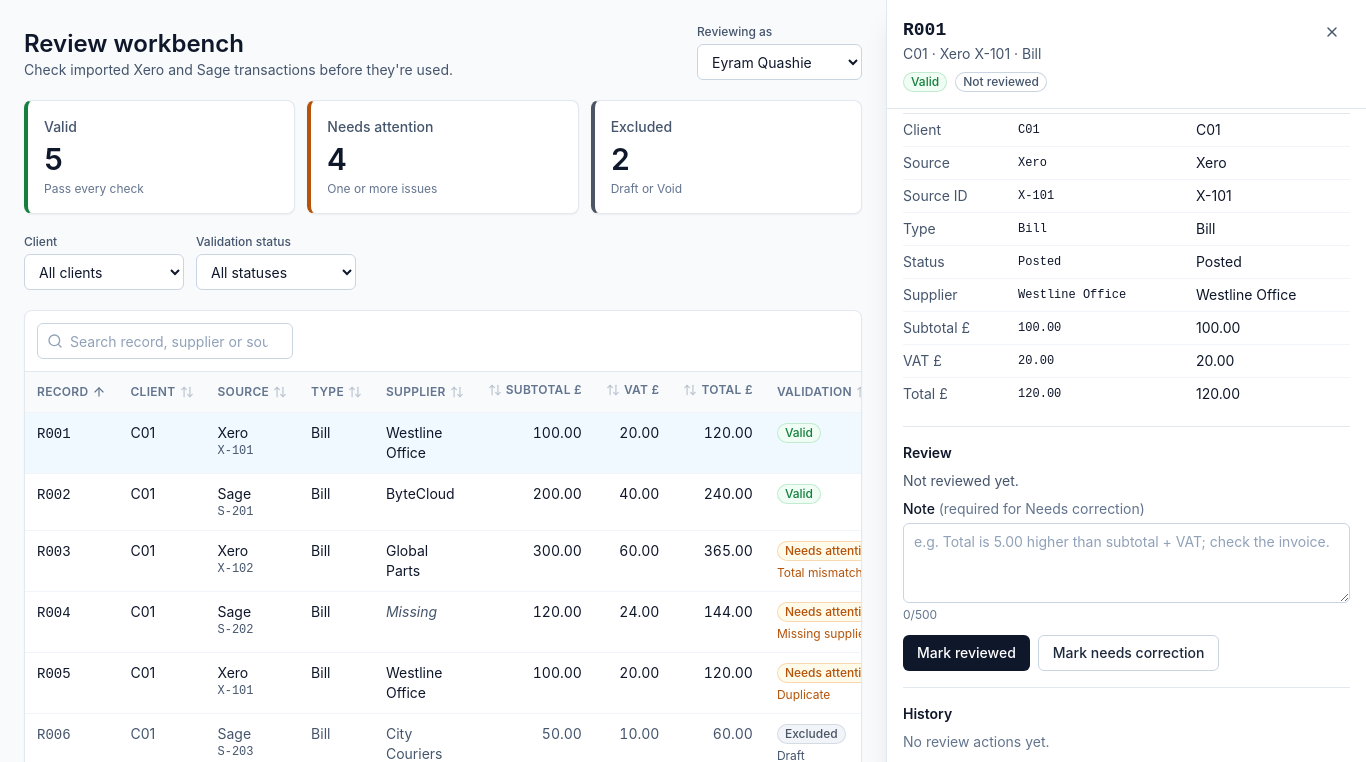
Record detail panel › reviewing › marks a valid record Reviewed, sending the reviewer and the version shown
(page scrolled)
Expected: the text "R001" is shown, [37,426,71,442]
Expected: the dropdown labelled "Reviewing as" is enabled, [697,44,862,80]
Click the button "Mark reviewed": (966, 653) [903,635,1030,671]
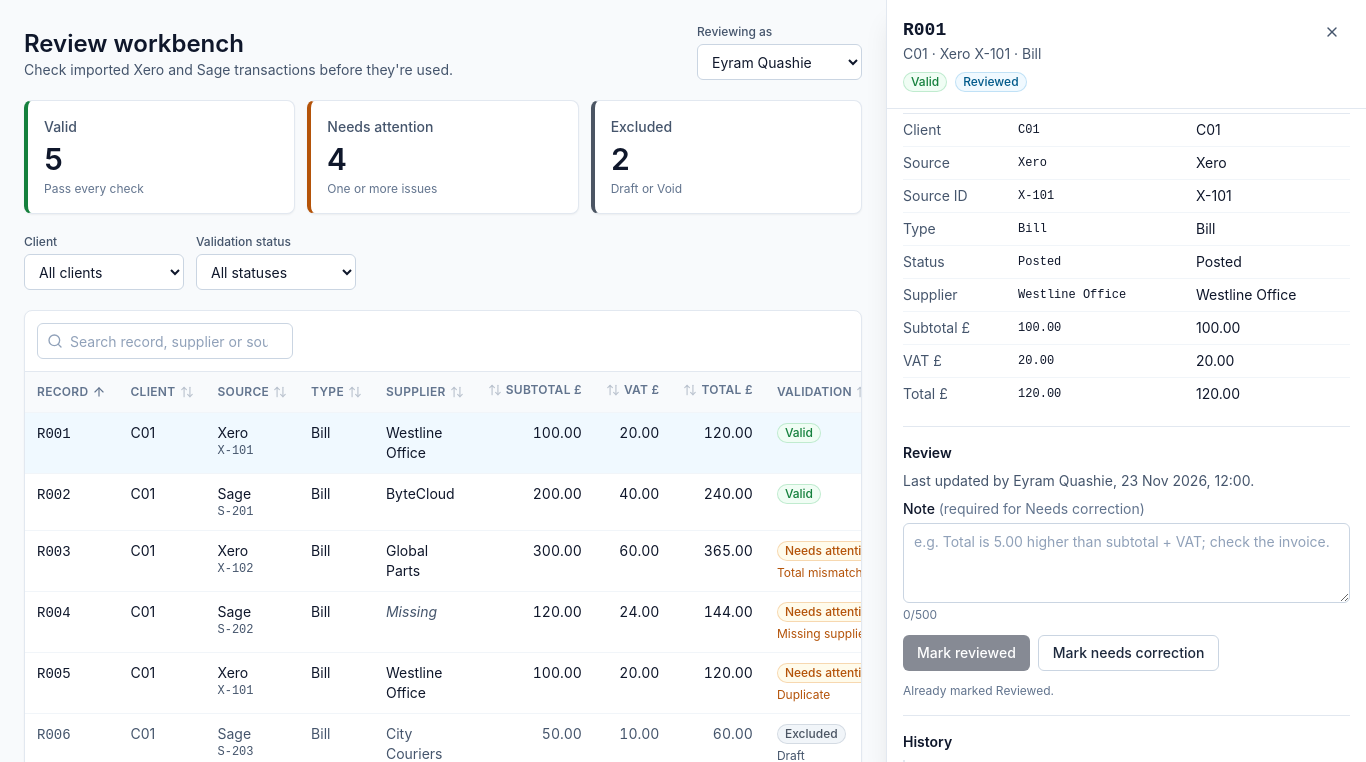
Expected: the 1st text "Reviewed" is shown, [955,72,1027,92]
Now the button "Mark reviewed" is disabled, box [903,635,1030,671]
Now the text "Already marked Reviewed." is shown, box [903,683,1054,698]
